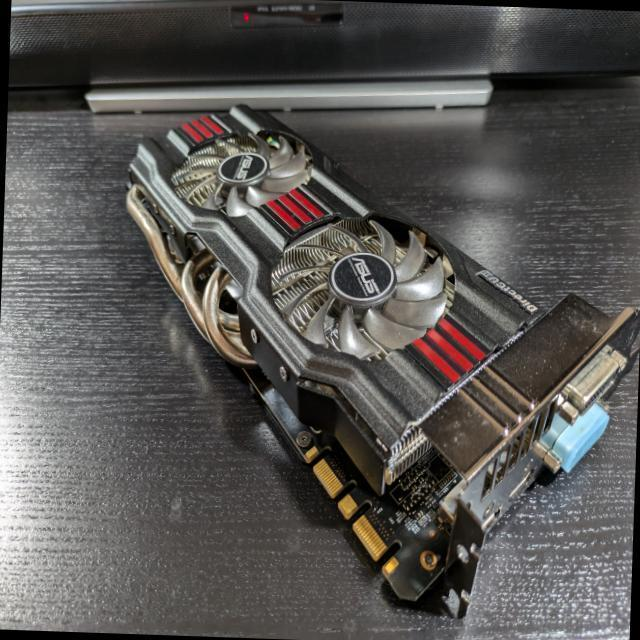GPU: (123, 99, 640, 616)
